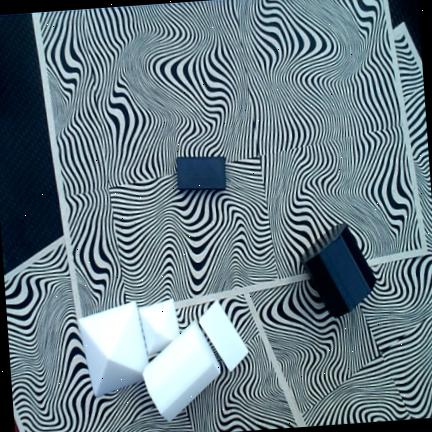Paralelepipedo: (198, 299, 248, 372), (176, 156, 226, 189)
Piramide: (76, 301, 148, 397), (138, 297, 179, 353)
Prisma_hexagonal: (141, 319, 221, 421), (300, 224, 375, 317)
